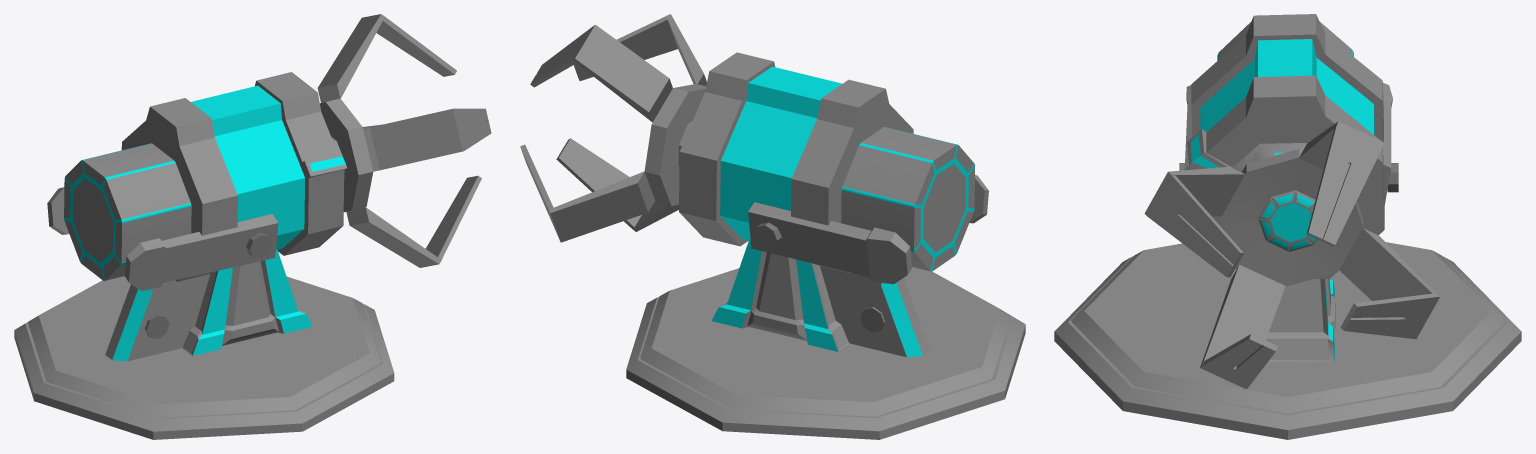
File: bhb_slow-fast_anim.fbx
3 renders of one model, left to right at view 1: azimuth 30°, elevation 25°; view 2: azimuth 150°, elevation 25°; view 3: azimuth 270°, elevation 25°, orthographic. The views are drawn at different scales.
Parts seen in each view (by area): view 1: pCylinder9, pCylinder3, pCube23, pCube14, pCylinder4, pCylinder8; view 2: pCylinder9, pCylinder3, pCube23, pCube14, pCylinder5, pCylinder7; view 3: pCylinder3, pCube23, pCylinder9, pCube14.
Boxes of the visible parts, x1,y1,x2,y2 form: pCylinder9: (64, 72, 346, 361); pCylinder3: (14, 276, 394, 439); pCube23: (317, 14, 491, 267); pCube14: (47, 187, 69, 234); pCylinder4: (246, 233, 272, 258); pCylinder8: (145, 314, 169, 339); pCylinder9: (678, 52, 988, 357); pCylinder3: (626, 267, 1025, 439); pCube23: (520, 14, 706, 242); pCube14: (748, 202, 911, 284); pCylinder5: (753, 222, 781, 250); pCylinder7: (860, 307, 885, 332); pCylinder3: (1054, 242, 1521, 439); pCube23: (1144, 121, 1439, 389); pCylinder9: (1184, 14, 1384, 362); pCube14: (1383, 83, 1392, 204).
Bounding box in the file's own units: 413 × 258 × 326.
